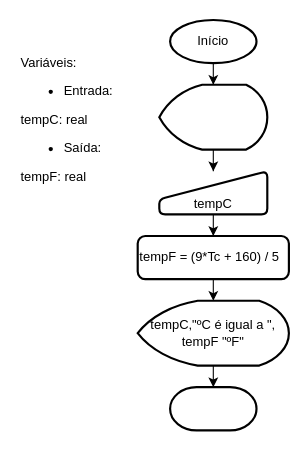
This 308x449 diagram has some shape labels left out. The centre of each missing label's shape, as x and y in pixels:
"Digite a temperatura em Celsius": pixel 213 116
Fim: pixel 212 408
